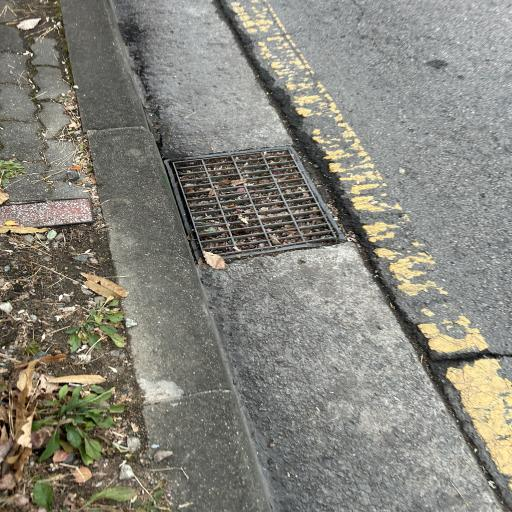debris: (209, 158, 241, 187), (244, 172, 263, 187), (208, 254, 226, 264), (272, 157, 281, 167), (226, 201, 237, 207), (186, 186, 198, 191), (287, 225, 294, 233), (287, 175, 294, 182), (262, 218, 274, 222), (212, 242, 222, 246), (279, 234, 284, 242), (222, 225, 227, 233), (283, 156, 291, 160), (304, 228, 309, 233), (235, 224, 238, 232), (276, 203, 282, 206), (256, 153, 260, 157)
drain: (173, 150, 338, 267)
